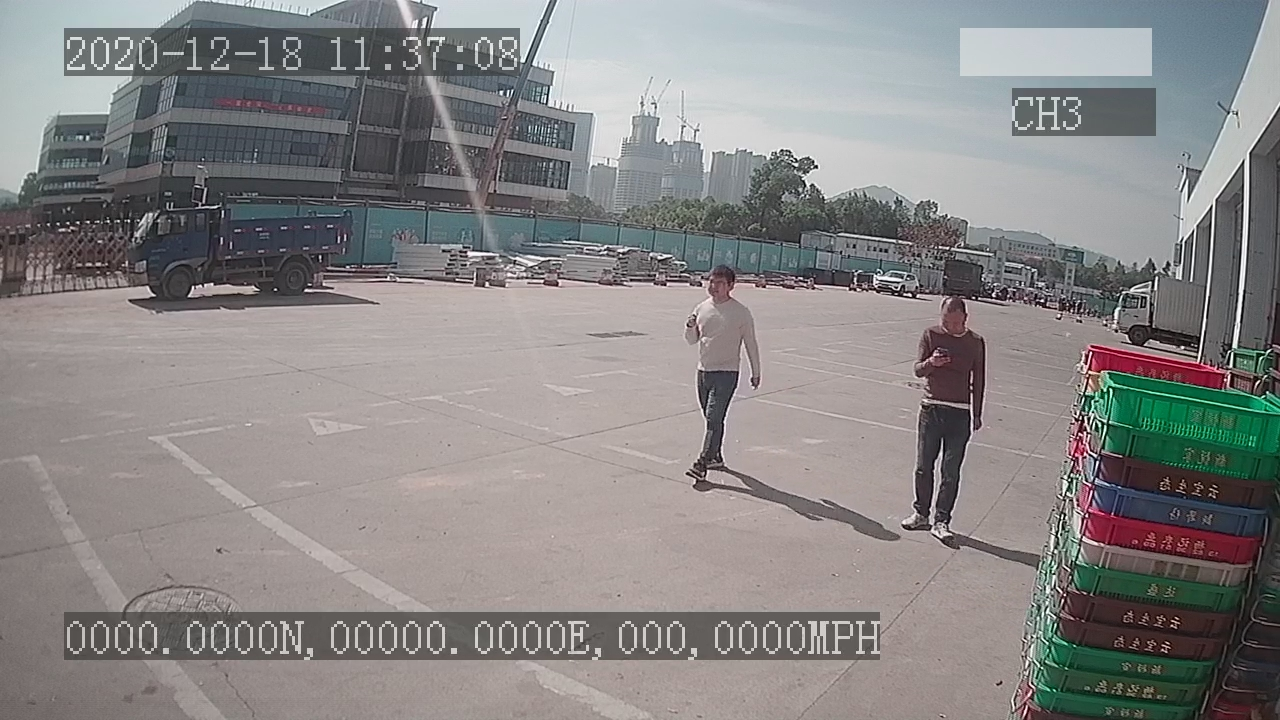person: (901, 286, 998, 551), (680, 260, 764, 479)
